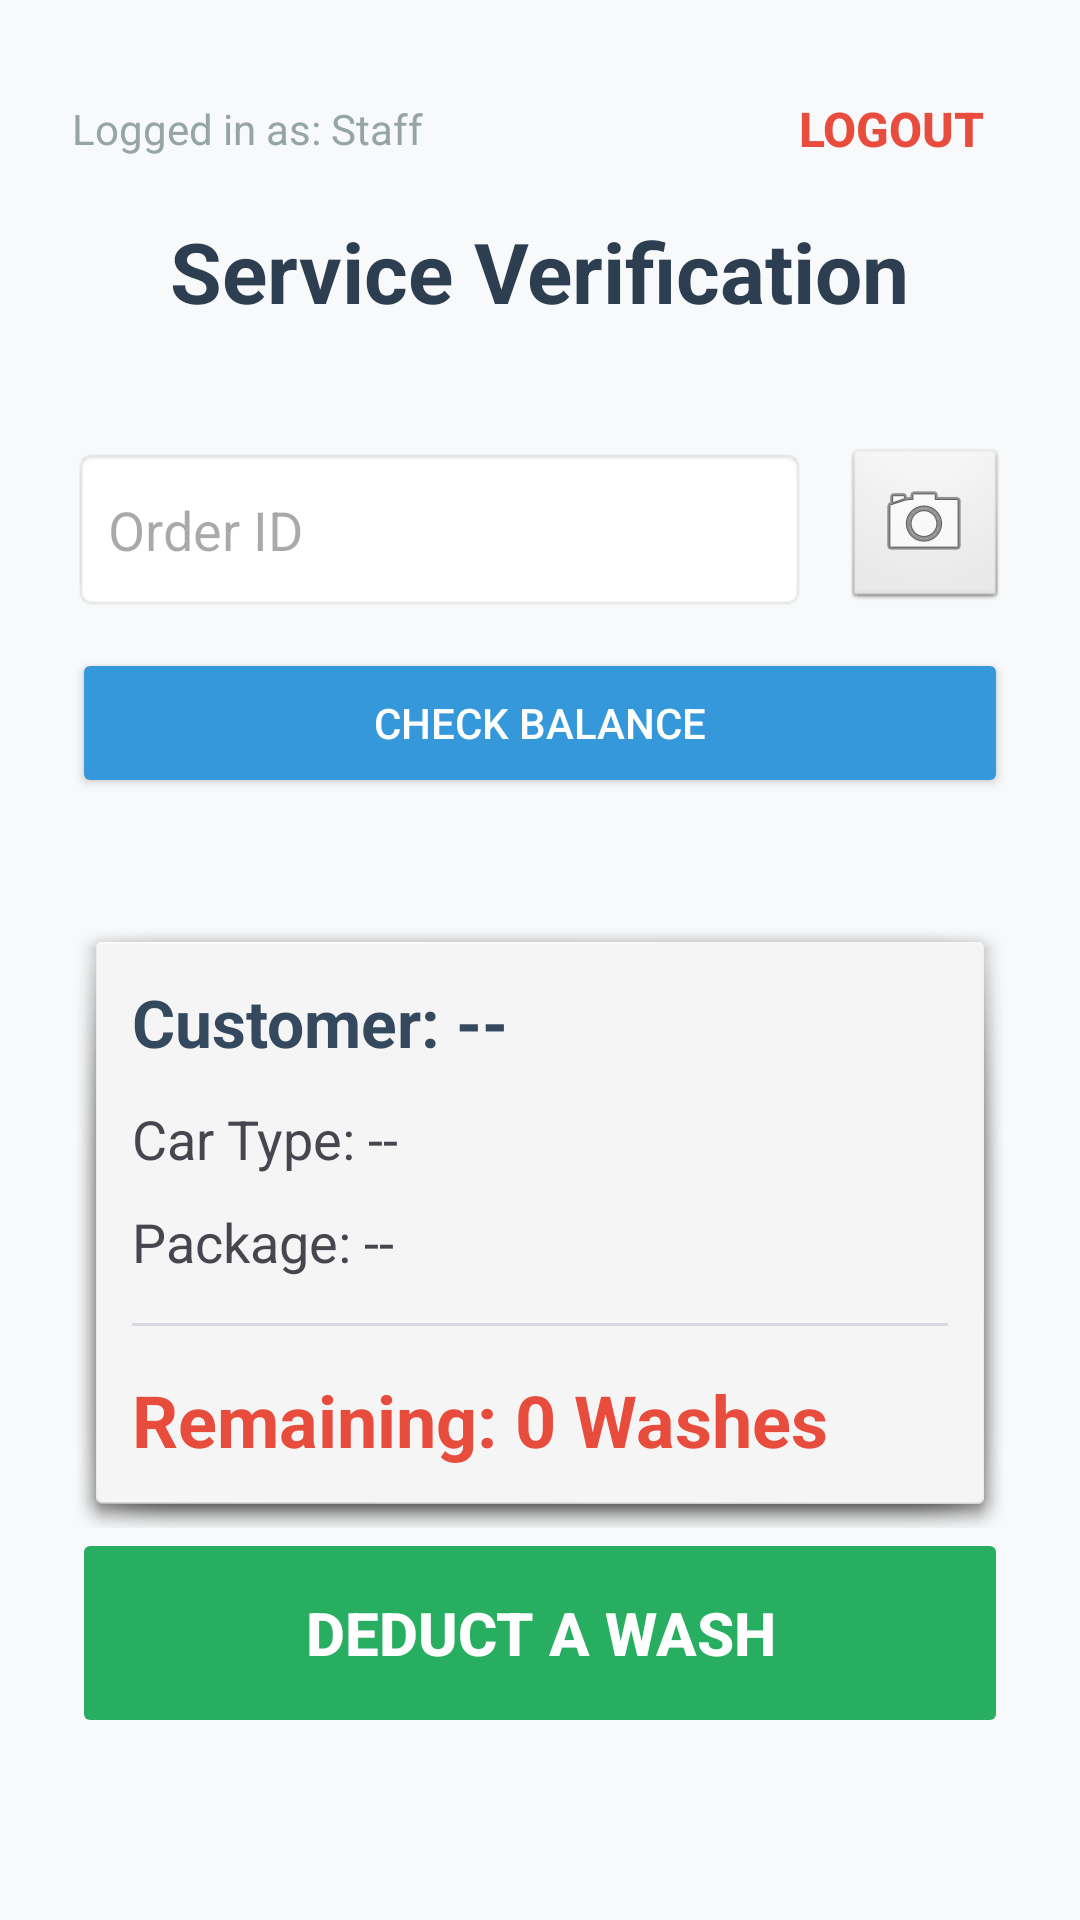

Named icons in this screenshot (1080*1920) and their bounding boxes, (x1, y1, x2, y2):
Scan QR Code: (852, 454, 998, 598)
